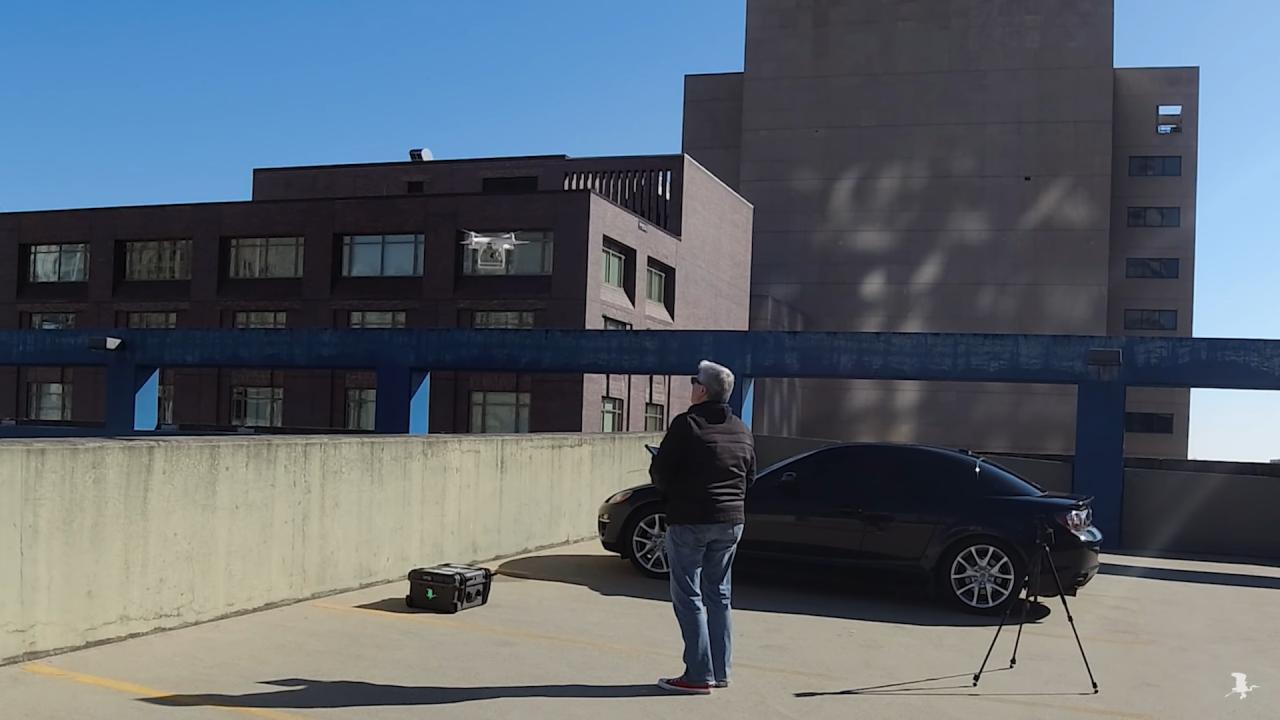Drone: (451, 221, 534, 278)
